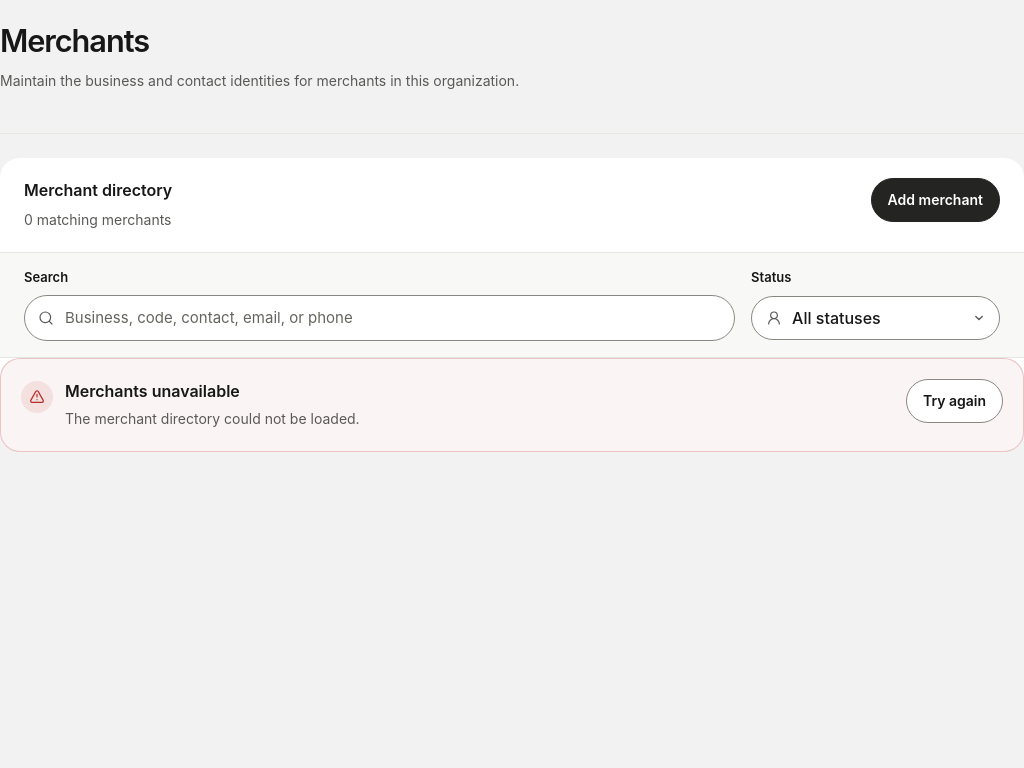
Test: MerchantDirectory › shows request errors and opens creation in a modal
Expected: the heading "Merchants unavailable" is shown, [65,381,240,401]
Click the button "Add merchant": (935, 200) [871,178,1000,222]
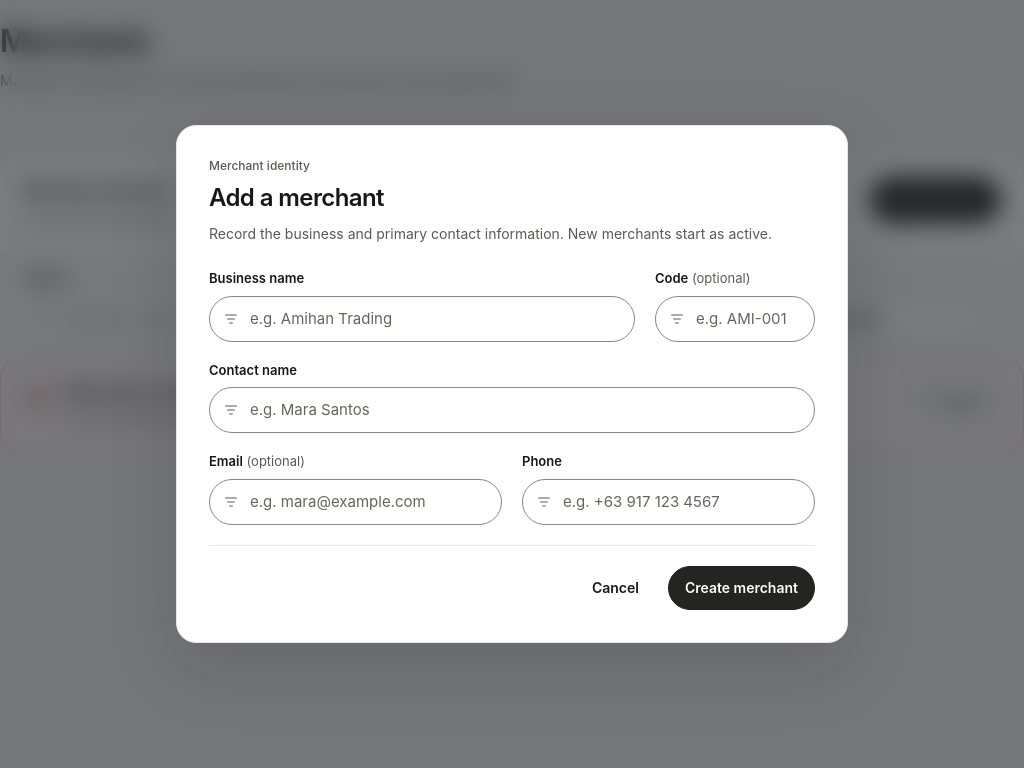
Now the dialog "Add a merchant" is shown, box [176,125,848,643]
